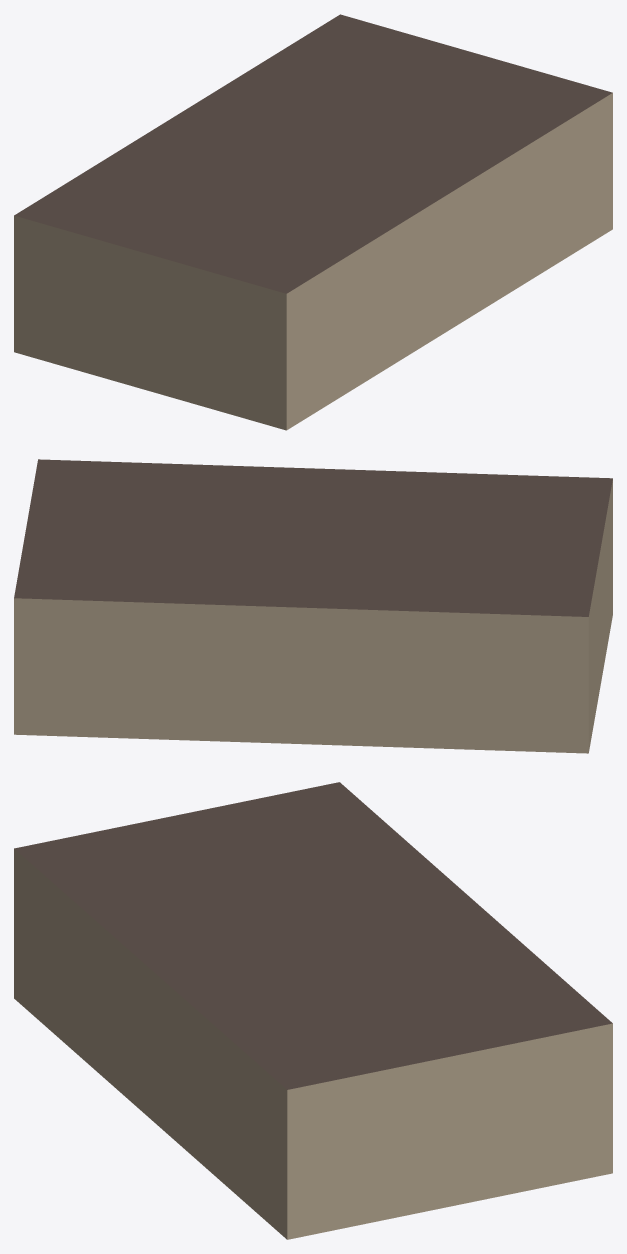
3 views of the same model, one above another, from view 1: azimuth 30°, elevation 25°; view 2: azimuth 150°, elevation 25°; view 3: azimuth 270°, elevation 25° (orthographic). The views are drawn at different scales.
Visible parts, largest first — view 1: HP-w1451006115; view 2: HP-w1451006115; view 3: HP-w1451006115.
Boxes of the visible parts, x1,y1,x2,y2 form: HP-w1451006115: [14, 14, 612, 430]; HP-w1451006115: [14, 459, 612, 753]; HP-w1451006115: [14, 782, 612, 1239].
Bounding box in the file's own units: 39.64 × 9 × 32.59.
